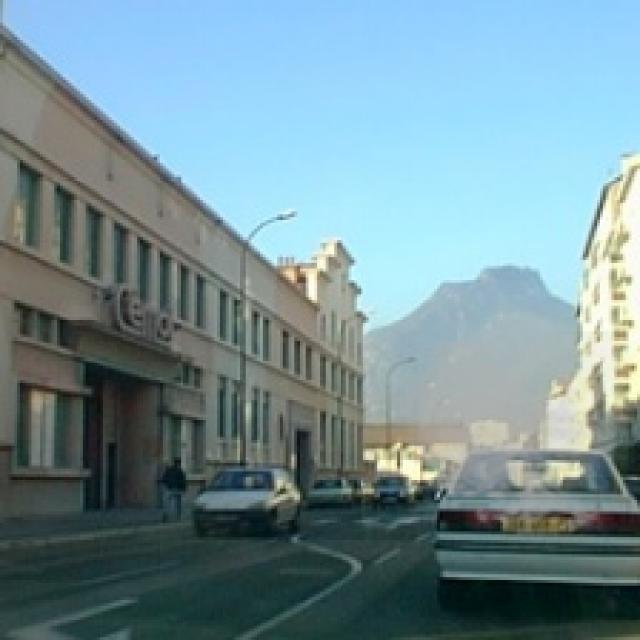Smoke: (381, 332, 628, 537)
